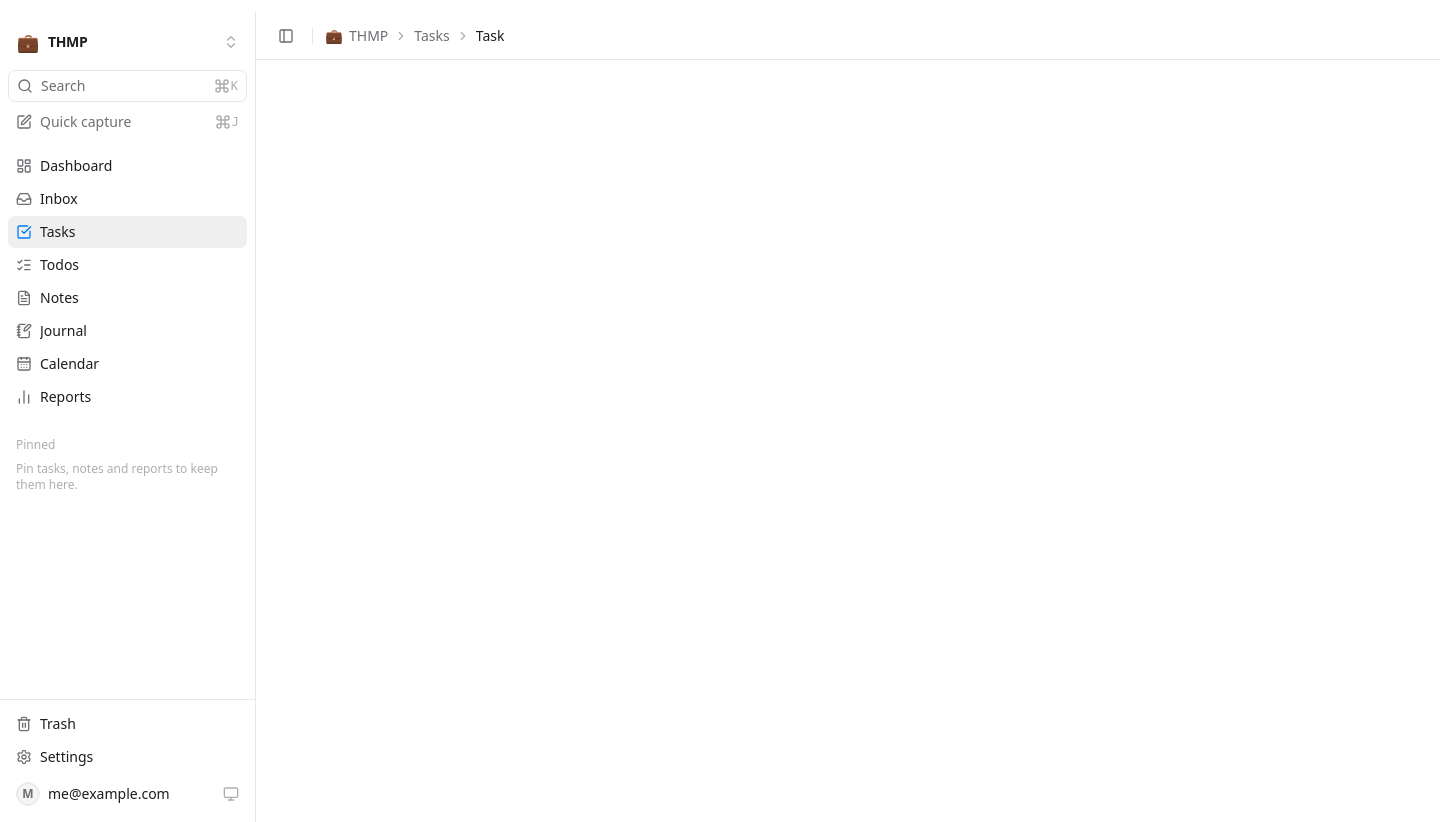
it: router (signed in) › switching space keeps the section and drops detail routes
Expected: the heading "Task" is shown, [476, 26, 504, 46]
What coordinates should you click on to do the following:
click the button "💼 THMP"
I would click on:
 (128, 42)
Its box is [8, 22, 247, 62].
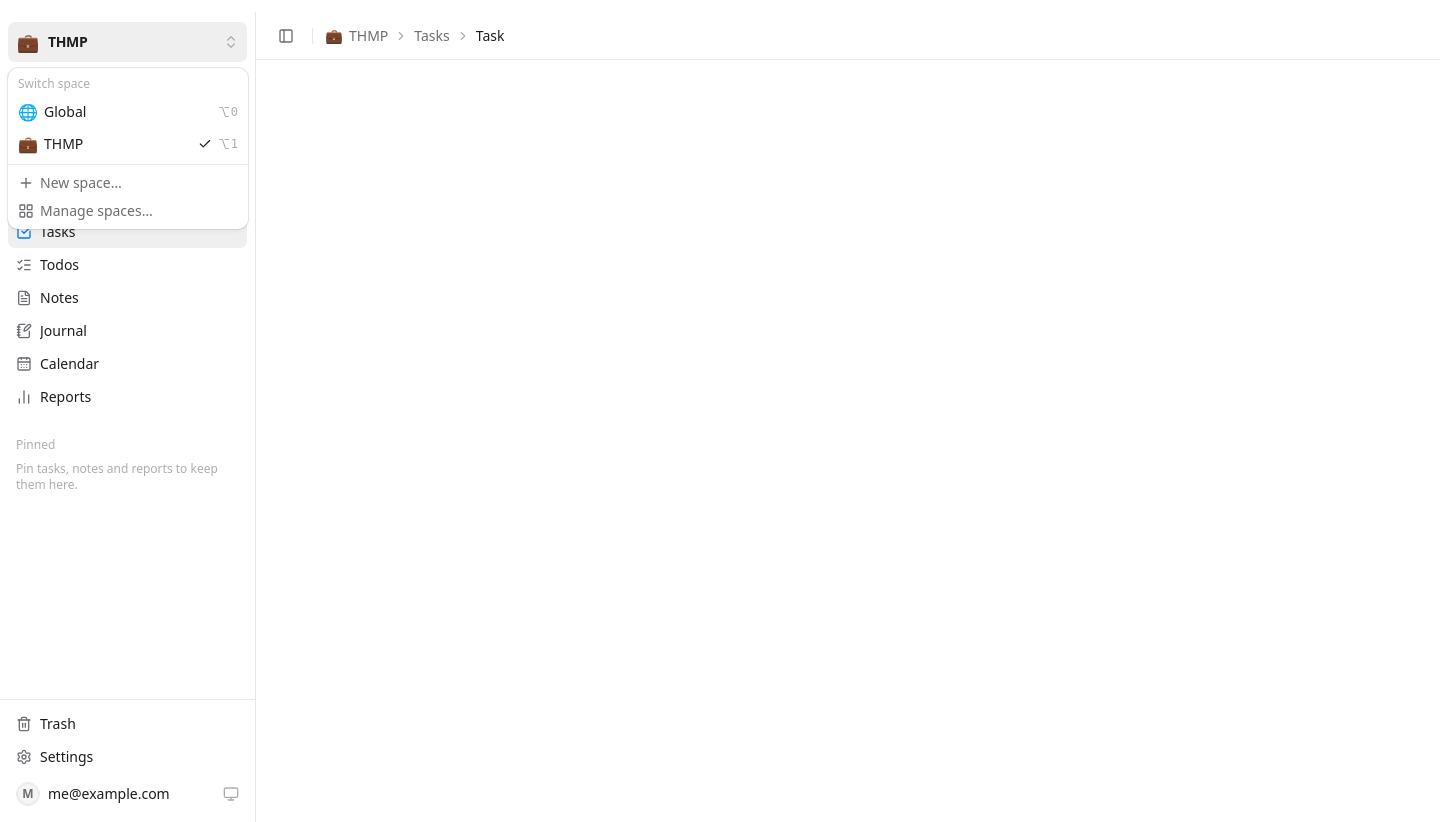
What coordinates should you click on to do the following:
click the menu item "🌐 Global 0"
I would click on:
 (65, 112)
Its box is [12, 96, 244, 128].
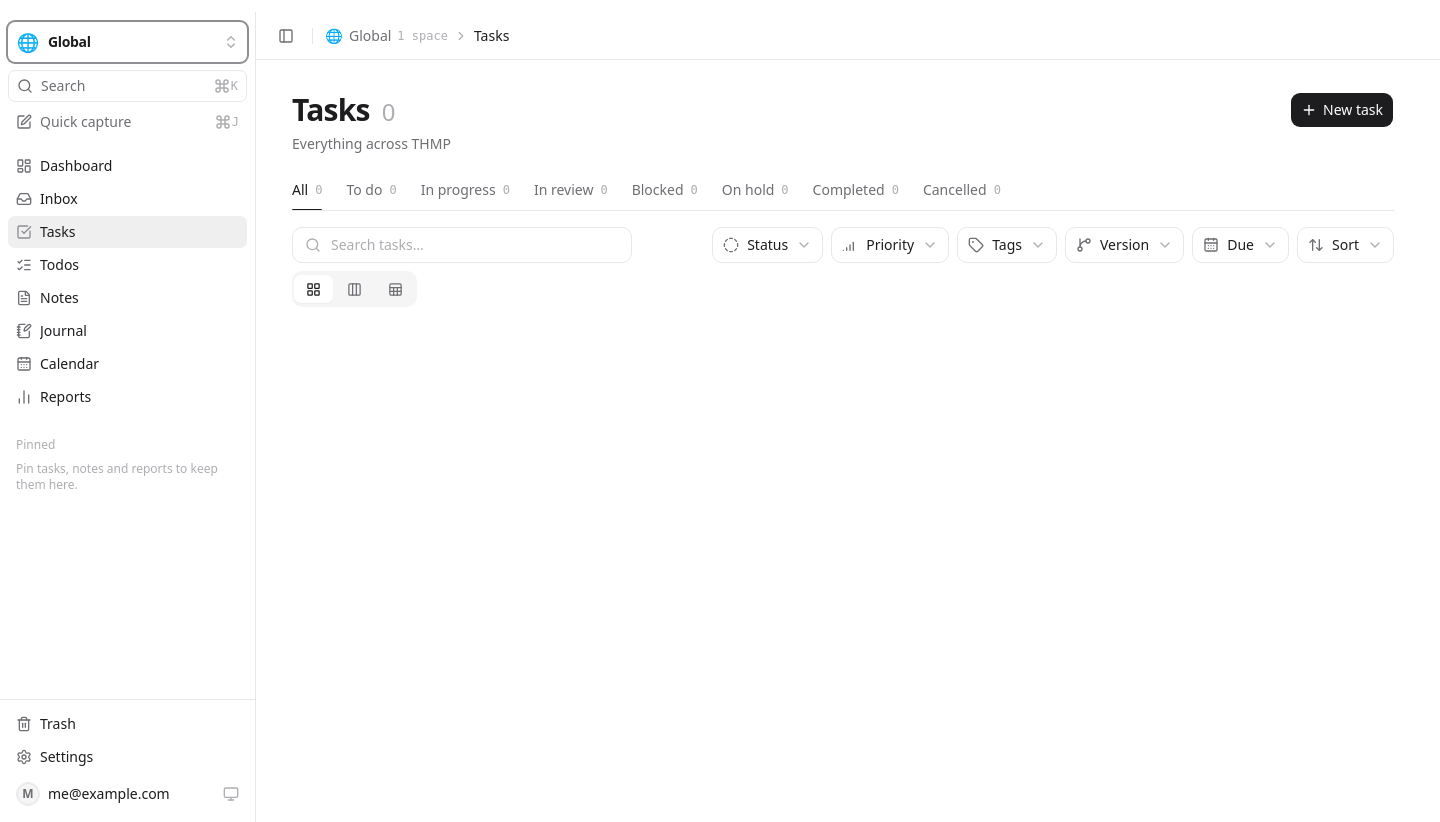
Expected: the navigation bar named "Breadcrumb" reads "🌐 Global 1 space Tasks", [325, 26, 509, 46]
